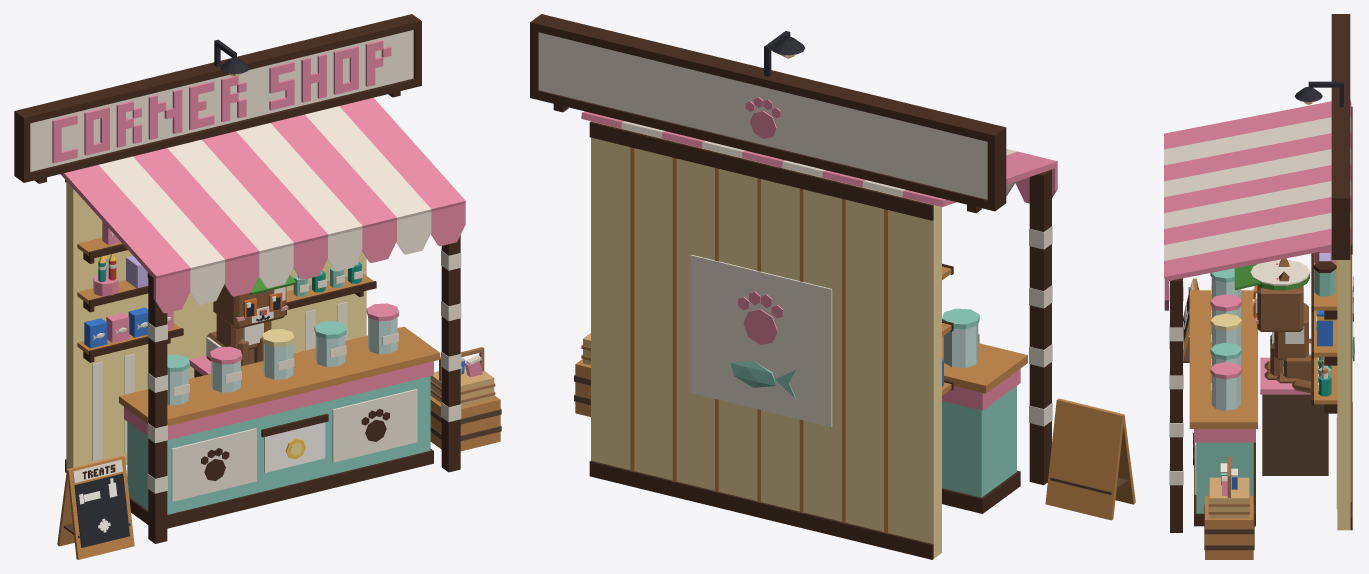
File: CatCafe_Street_CornerShop.glb
The picture shows the model from 3 angles, left to right: view 1: azimuth 30°, elevation 25°; view 2: azimuth 150°, elevation 25°; view 3: azimuth 270°, elevation 25°; orthographic projection. The views are drawn at different scales.
Visible parts, largest first — view 1: CatCafe_Street_CornerShop, CatCafe_Street_CornerShop_Glass, CatCafe_Street_CornerShop_Cat_Head, CatCafe_Street_CornerShop_Cat_Body; view 2: CatCafe_Street_CornerShop, CatCafe_Street_CornerShop_Glass; view 3: CatCafe_Street_CornerShop, CatCafe_Street_CornerShop_Glass, CatCafe_Street_CornerShop_Cat_Head, CatCafe_Street_CornerShop_Cat_Body, CatCafe_Street_CornerShop_Cat_Prop, CatCafe_Street_CornerShop_Cat_LegF1.
Boxes of the visible parts, left/top/right/bottom form: CatCafe_Street_CornerShop: left=14, top=14, right=501, bottom=559; CatCafe_Street_CornerShop_Glass: left=167, top=317, right=397, bottom=405; CatCafe_Street_CornerShop_Cat_Head: left=213, top=284, right=288, bottom=328; CatCafe_Street_CornerShop_Cat_Body: left=206, top=314, right=271, bottom=364; CatCafe_Street_CornerShop: left=530, top=14, right=1135, bottom=559; CatCafe_Street_CornerShop_Glass: left=943, top=324, right=978, bottom=367; CatCafe_Street_CornerShop: left=1164, top=14, right=1354, bottom=559; CatCafe_Street_CornerShop_Glass: left=1211, top=277, right=1240, bottom=410; CatCafe_Street_CornerShop_Cat_Head: left=1255, top=285, right=1303, bottom=331; CatCafe_Street_CornerShop_Cat_Body: left=1272, top=303, right=1317, bottom=383; CatCafe_Street_CornerShop_Cat_Prop: left=1234, top=259, right=1310, bottom=290; CatCafe_Street_CornerShop_Cat_LegF1: left=1264, top=343, right=1282, bottom=379.
Size of the model in its own units: 10.92 by 9.51 by 4.33.
Materials: 1 (1 with a texture image).
